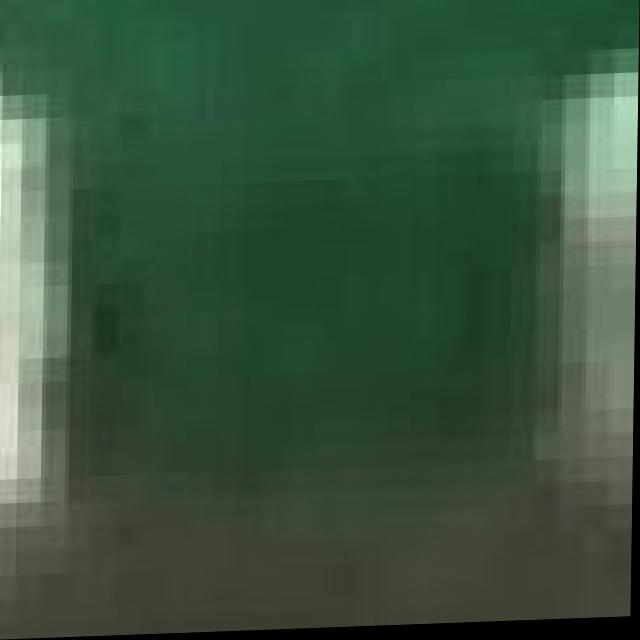transistor: (0, 33, 639, 640)
